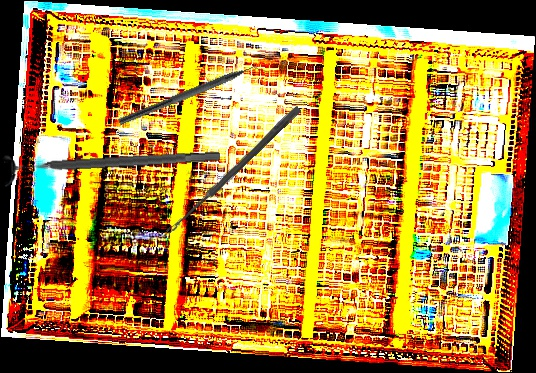Chopper: (116, 56, 272, 136)
Fixation Ring: (3, 138, 221, 189)
Surgical Spoon: (165, 104, 302, 237)
